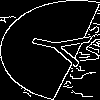Y: (25, 25, 100, 71)
